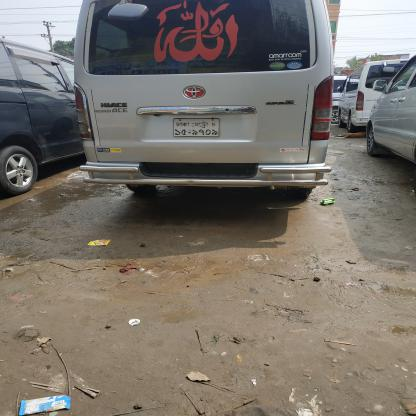license_plate: (92, 88, 289, 167)
